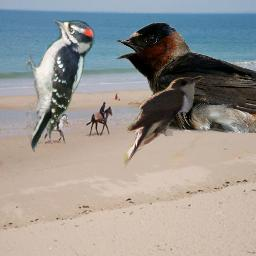Cuckoo: (124, 75, 204, 170)
Swallow: (114, 22, 256, 134)
Woodpecker: (25, 16, 96, 152)
